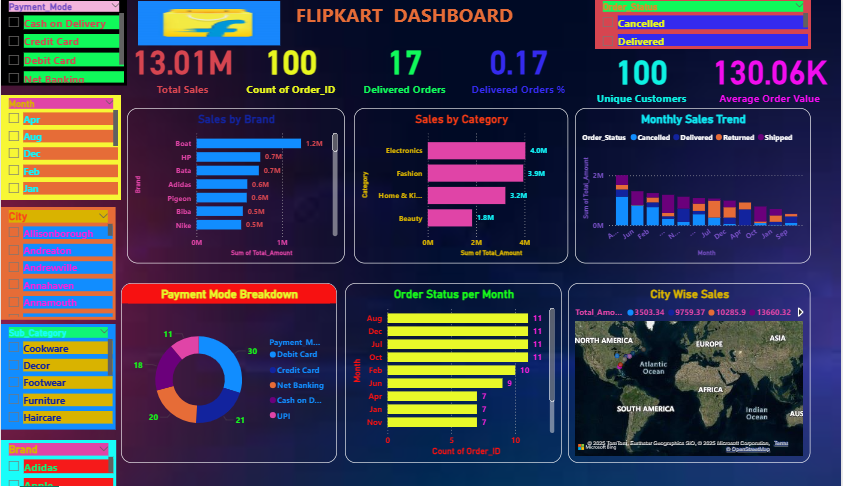

Layout of this report page (visuals, bound fields, positions):
{"tool":"powerbi","page":{"name":"Page 1","canvas":[1400,950],"ordinal":0},"visuals":[{"type":"textbox","box":[452.9,0,438.6,55.7],"z":0},{"type":"barChart","title":"Sales by Brand","fields":{"Category":["Sheet1.Brand"],"Y":["Sum(Sheet1.Total_Amount)"]},"box":[210,182.9,362.9,258.6],"z":1000},{"type":"barChart","title":"Sales by Category","fields":{"Category":["Sheet1.Category"],"Y":["Sum(Sheet1.Total_Amount)"]},"box":[588.6,182.9,357.1,258.6],"z":2000},{"type":"columnChart","title":"Monthly Sales Trend","fields":{"Category":["Sheet1.Month"],"Y":["Sum(Sheet1.Total_Amount)"],"Series":["Sheet1.Order_Status"]},"box":[957.1,182.9,392.9,258.6],"z":3000},{"type":"donutChart","title":"Payment Mode Breakdown","fields":{"Category":["Sheet1.Payment_Mode"],"Y":["CountNonNull(Sheet1.Order_ID)"]},"box":[200,475.7,360,300],"z":4000},{"type":"barChart","title":"Order Status per Month","fields":{"Category":["Sheet1.Month"],"Y":["CountNonNull(Sheet1.Order_ID)"]},"box":[572.9,475.7,361.4,300],"z":5000},{"type":"map","title":"City Wise Sales","fields":{"Category":["Sheet1.City"],"Series":["Sheet1.Total_Amount"]},"box":[945.7,475.7,404.3,300],"z":6000},{"type":"slicer","fields":{"Values":["Sheet1.Month"]},"box":[0,161.2,200,175],"z":7000},{"type":"slicer","fields":{"Values":["Sheet1.City"]},"box":[0,347.5,191.2,187.5],"z":8000},{"type":"slicer","fields":{"Values":["Sheet1.Sub_Category"]},"box":[0,543.8,191.2,176.2],"z":9000},{"type":"slicer","fields":{"Values":["Sheet1.Brand"]},"box":[0,736.7,191.7,213.3],"z":10000},{"type":"slicer","fields":{"Values":["Sheet1.Payment_Mode"]},"box":[0,0,210,145.7],"z":11000},{"type":"slicer","fields":{"Values":["Sheet1.Order_Status"]},"box":[990,0,360,85],"z":12000},{"type":"card","fields":{"Values":["Sum(Sheet1.Total_Amount)"]},"box":[211.4,55.7,181.4,115.7],"z":13000},{"type":"card","fields":{"Values":["CountNonNull(Sheet1.Order_ID)"]},"box":[392.9,55.7,180,115.7],"z":14000},{"type":"card","fields":{"Values":["Sheet1.Delivered Orders"]},"box":[578.6,55.7,188.6,115.7],"z":15000},{"type":"card","fields":{"Values":["Sheet1.Delivered Orders %"]},"box":[768.6,55.7,188.6,115.7],"z":16000},{"type":"card","fields":{"Values":["Sheet1.Unique Customers"]},"box":[972.9,72.9,188.6,110],"z":17000},{"type":"card","fields":{"Values":["Sheet1.Average Order Value"]},"box":[1161.4,72.9,238.6,110],"z":18000},{"type":"image","box":[222.9,0,247.1,84.3],"z":19000}]}

Visuals, with their boxes on the page's 1400x950 design canvas (x1, y1, x2, y2). These are canvas units, not pixel positions in the 843x487 screenshot, which may show the page scaled, cropped or inside an application window:
textbox: x1=453 y1=0 x2=892 y2=56
"Sales by Brand" barChart: x1=210 y1=183 x2=573 y2=442
"Sales by Category" barChart: x1=589 y1=183 x2=946 y2=442
"Monthly Sales Trend" columnChart: x1=957 y1=183 x2=1350 y2=442
"Payment Mode Breakdown" donutChart: x1=200 y1=476 x2=560 y2=776
"Order Status per Month" barChart: x1=573 y1=476 x2=934 y2=776
"City Wise Sales" map: x1=946 y1=476 x2=1350 y2=776
slicer - Sheet1.Month: x1=0 y1=161 x2=200 y2=336
slicer - Sheet1.City: x1=0 y1=348 x2=191 y2=535
slicer - Sheet1.Sub_Category: x1=0 y1=544 x2=191 y2=720
slicer - Sheet1.Brand: x1=0 y1=737 x2=192 y2=950
slicer - Sheet1.Payment_Mode: x1=0 y1=0 x2=210 y2=146
slicer - Sheet1.Order_Status: x1=990 y1=0 x2=1350 y2=85
card - Sum(Sheet1.Total_Amount): x1=211 y1=56 x2=393 y2=171
card - CountNonNull(Sheet1.Order_ID): x1=393 y1=56 x2=573 y2=171
card - Sheet1.Delivered Orders: x1=579 y1=56 x2=767 y2=171
card - Sheet1.Delivered Orders %: x1=769 y1=56 x2=957 y2=171
card - Sheet1.Unique Customers: x1=973 y1=73 x2=1162 y2=183
card - Sheet1.Average Order Value: x1=1161 y1=73 x2=1400 y2=183
image: x1=223 y1=0 x2=470 y2=84
